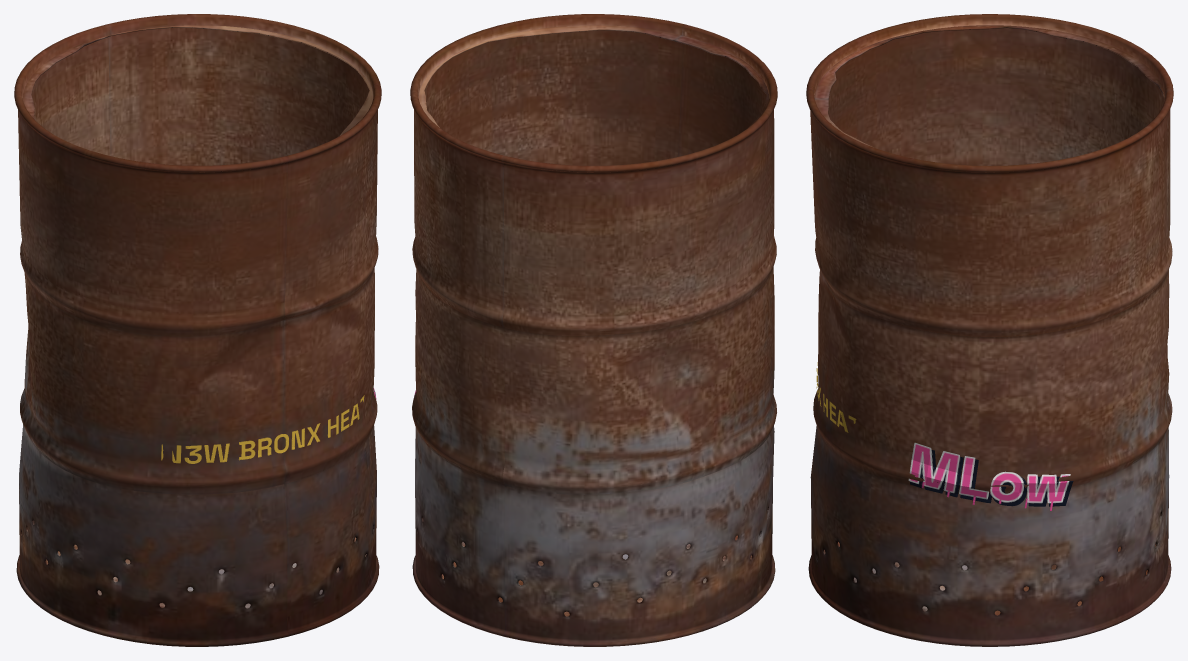
File: nyb_bs_barrel.glb
The picture shows the model from 3 angles, left to right: view 1: azimuth 30°, elevation 25°; view 2: azimuth 150°, elevation 25°; view 3: azimuth 270°, elevation 25°; orthographic projection.
Visible parts, largest first — view 1: barrel_stove, stk_lbl_3c43f8d888.png; view 2: barrel_stove; view 3: barrel_stove, stk_tag_mlow.png.
Boxes of the visible parts, <box> form: barrel_stove: <box>14,14,381,646</box>; stk_lbl_3c43f8d888.png: <box>161,395,364,463</box>; barrel_stove: <box>410,14,777,646</box>; barrel_stove: <box>806,14,1173,646</box>; stk_tag_mlow.png: <box>908,442,1073,511</box>.
Size of the model in its own units: 0.5925 by 0.8556 by 0.5925.
Materials: 3 (3 with a texture image).
